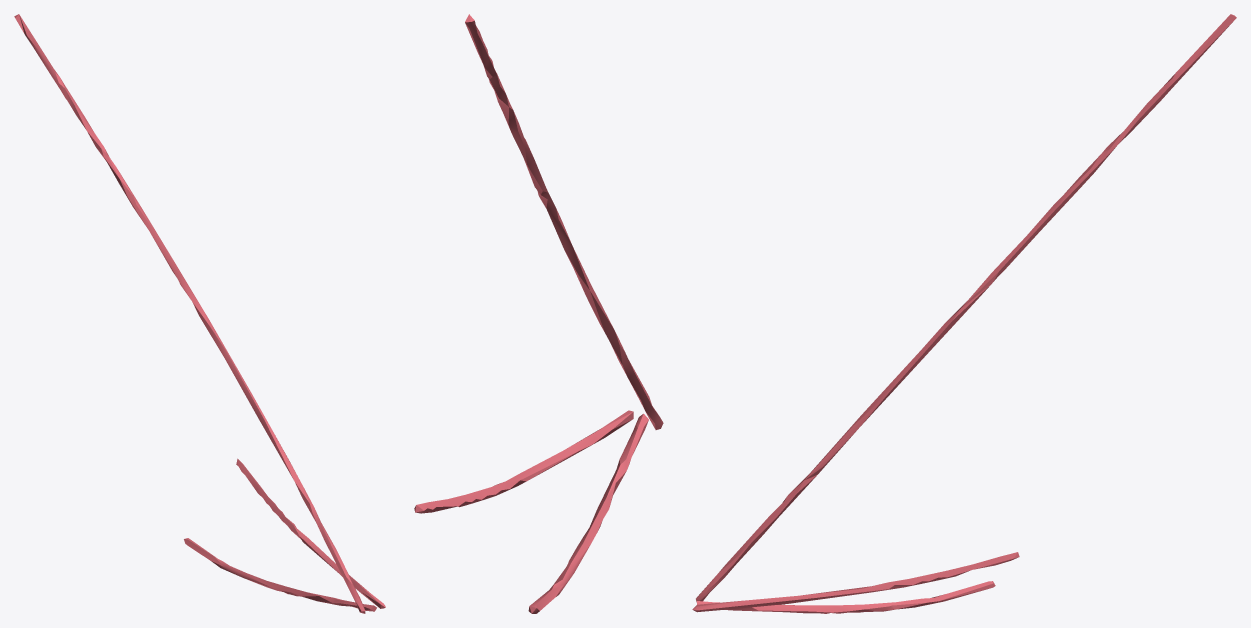
File: fma50174_fj5129.glb
3 views of the same model, side by side, from view 1: azimuth 30°, elevation 25°; view 2: azimuth 150°, elevation 25°; view 3: azimuth 270°, elevation 25° (orthographic). The views are drawn at different scales.
Visible parts, largest first — view 1: FMA50174_FJ5129; view 2: FMA50174_FJ5129; view 3: FMA50174_FJ5129.
Boxes of the visible parts, <box> form: FMA50174_FJ5129: <box>14,14,385,613</box>; FMA50174_FJ5129: <box>414,14,663,613</box>; FMA50174_FJ5129: <box>692,14,1236,613</box>.
Bounding box in the file's own units: 0.00437 × 0.0145 × 0.0131.
